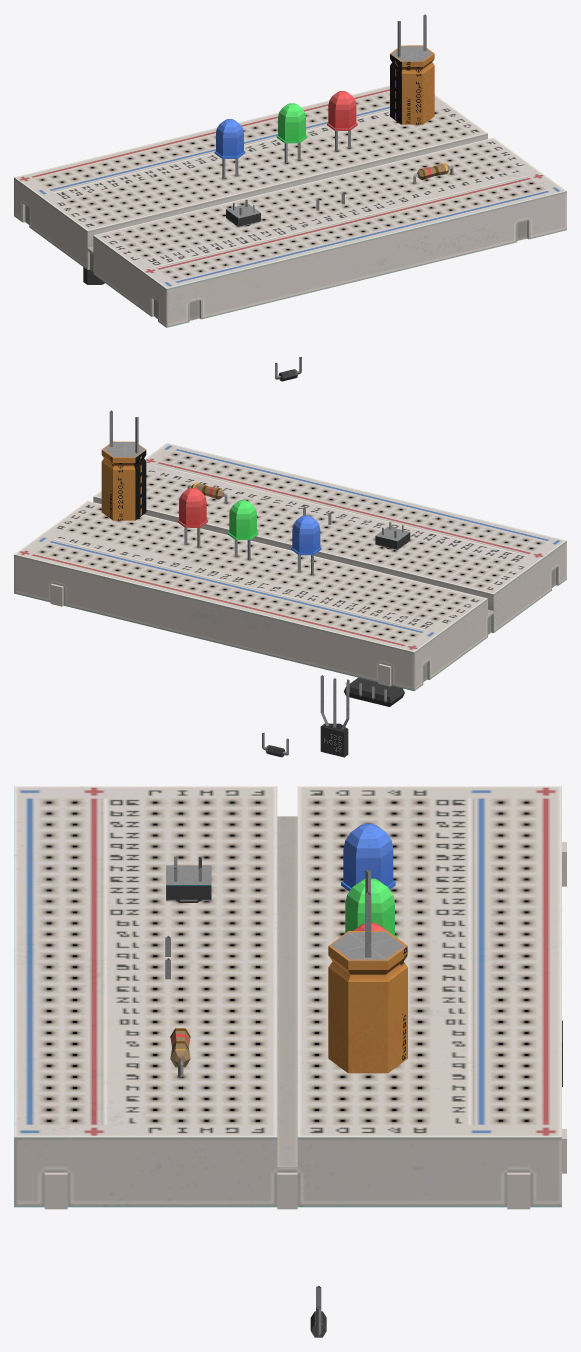
Rendered from BreadBoard.fbx.
3 views of the same model, one above another, from view 1: azimuth 30°, elevation 25°; view 2: azimuth 150°, elevation 25°; view 3: azimuth 270°, elevation 25° (orthographic). The views are drawn at different scales.
Parts seen in each view (by area): view 1: Breadboard, Capacitor, LEDGreen, LEDBlue, LEDRed, Button; view 2: Breadboard, Capacitor, Transistor, LEDBlue, LEDRed, LEDGreen, IC, Button; view 3: Breadboard, Capacitor, LEDBlue, LEDGreen, Button, Resistor.
Boxes of the visible parts, left/top/right/bottom form: Breadboard: left=14, top=85, right=566, bottom=327; Capacitor: left=390, top=14, right=434, bottom=124; LEDGreen: left=276, top=103, right=307, bottom=163; LEDBlue: left=214, top=119, right=245, bottom=179; LEDRed: left=327, top=91, right=357, bottom=151; Button: left=226, top=199, right=260, bottom=227; Breadboard: left=14, top=443, right=566, bottom=691; Capacitor: left=101, top=410, right=146, bottom=520; Transistor: left=320, top=675, right=349, bottom=757; LEDBlue: left=291, top=515, right=321, bottom=575; LEDRed: left=177, top=487, right=207, bottom=547; LEDGreen: left=228, top=500, right=258, bottom=560; IC: left=344, top=677, right=404, bottom=706; Button: left=375, top=522, right=410, bottom=550; Breadboard: left=14, top=786, right=566, bottom=1209; Capacitor: left=328, top=870, right=407, bottom=1073; LEDBlue: left=341, top=823, right=395, bottom=891; LEDGreen: left=345, top=878, right=397, bottom=937; Button: left=166, top=856, right=211, bottom=902; Resistor: left=170, top=1028, right=190, bottom=1077.
Size of the model in its own units: 0.0805 by 0.0606 by 0.0533.
11 materials, 11 textured.
